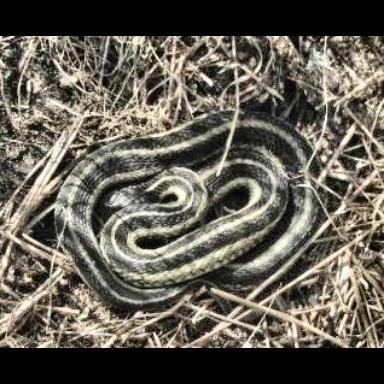snake: (40, 84, 352, 324)
